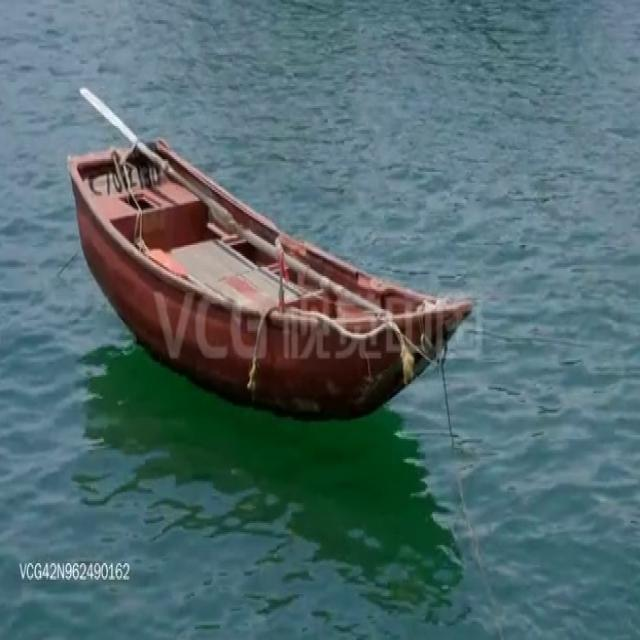fishing boat: (66, 81, 472, 415)
